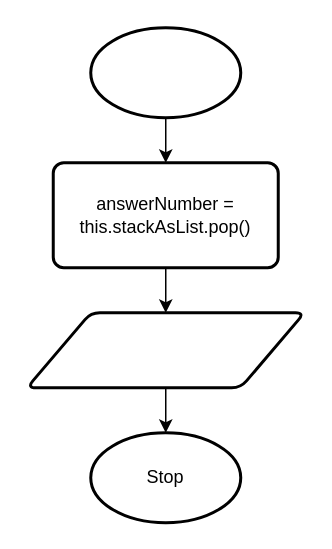
Some shapes in this 332 by 549 pixel diagram are drawn without their labels. Each missing label, with the centre of its shape:
"return answerNumber" belongs at (165,349).
"Start" belongs at (165,72).
